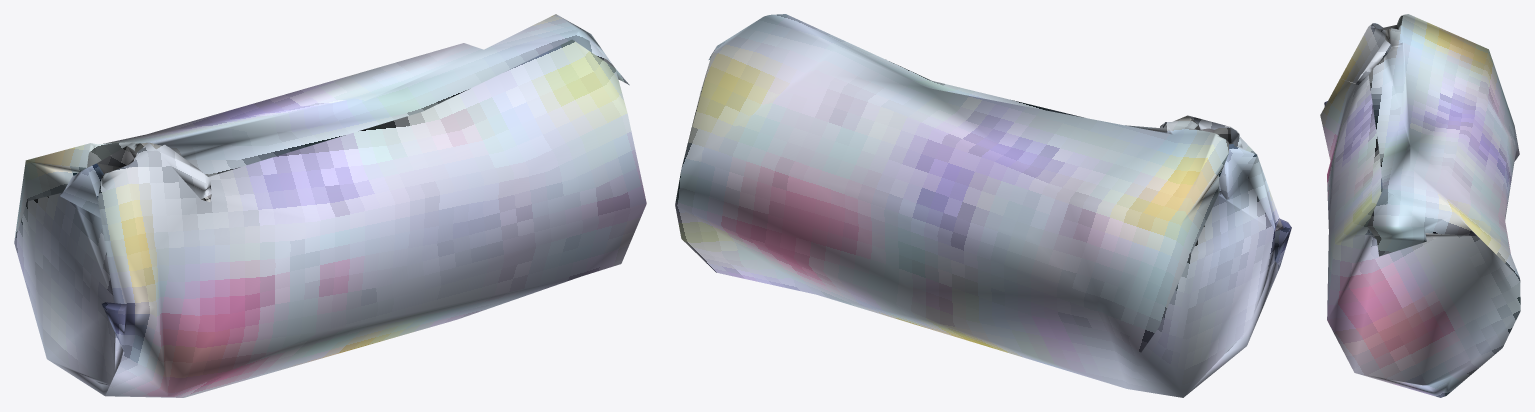
The model's file is Olive_Kids_Butterfly_Garden_Pencil_Case-low.glb.
3 views of the same model, side by side, from view 1: azimuth 30°, elevation 25°; view 2: azimuth 150°, elevation 25°; view 3: azimuth 270°, elevation 25° (orthographic). The views are drawn at different scales.
Parts seen in each view (by area): view 1: Olive_Kids_Butterfly_Garden_Pencil_Case; view 2: Olive_Kids_Butterfly_Garden_Pencil_Case; view 3: Olive_Kids_Butterfly_Garden_Pencil_Case.
Part boxes in pixels (<box>): Olive_Kids_Butterfly_Garden_Pencil_Case: <box>14,14,646,397</box>; Olive_Kids_Butterfly_Garden_Pencil_Case: <box>675,14,1291,397</box>; Olive_Kids_Butterfly_Garden_Pencil_Case: <box>1320,14,1520,397</box>.
Bounding box in the file's own units: 0.2076 × 0.0922 × 0.0833.
Materials: 1 (1 with a texture image).
